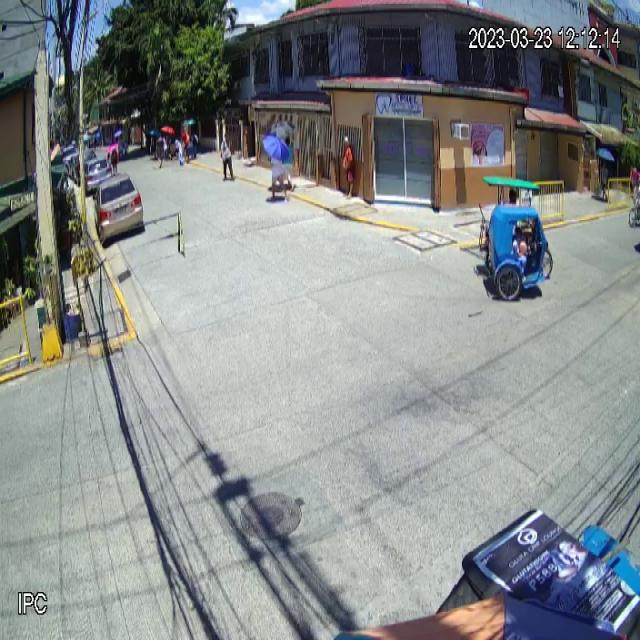Tricycle: (480, 176, 553, 302)
